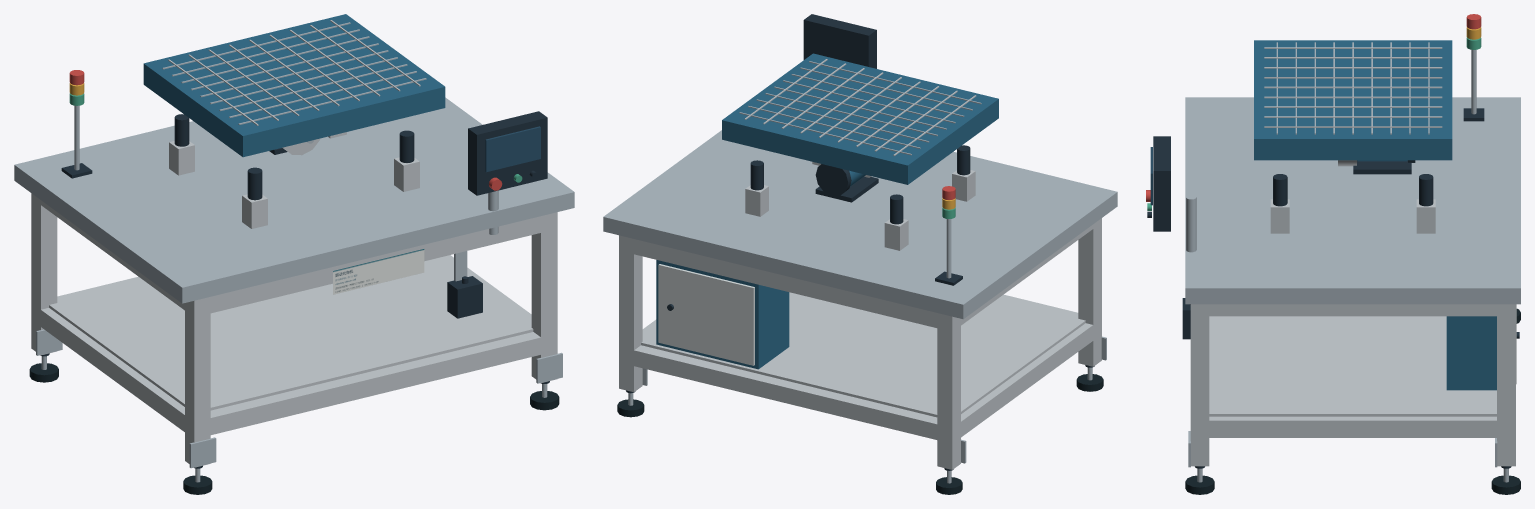
The model's file is vibratory-deburr-cell.glb.
The picture shows the model from 3 angles, left to right: view 1: azimuth 30°, elevation 25°; view 2: azimuth 150°, elevation 25°; view 3: azimuth 270°, elevation 25°; orthographic projection. The views are drawn at different scales.
Visible parts, largest first — view 1: ClosedMachineBed_28, LowerShelf_29, ScreenFrame_56, SlottedExtrusion_22, SlottedExtrusion_23, SlottedExtrusion_8, SlottedExtrusion_24, SlottedExtrusion_18, ConsoleBack_34, SlottedExtrusion_3, OriginalNameplate_42, Screen_35 (+7 smaller); view 2: ClosedMachineBed_28, LowerShelf_29, ScreenFrame_56, BackDoor_31, SlottedExtrusion_20, SlottedExtrusion_21, SlottedExtrusion_3, Cabinet_30, SlottedExtrusion_13, SlottedExtrusion_24, ConsoleBack_34, SlottedExtrusion_8 (+6 smaller); view 3: ClosedMachineBed_28, LowerShelf_29, ScreenFrame_56, SlottedExtrusion_26, Cabinet_30, SlottedExtrusion_27, SlottedExtrusion_18, SlottedExtrusion_13, ConsoleBack_34, MountFoot_80, ConsoleBracket_33, SlottedExtrusion_53 (+7 smaller).
Part boxes in pixels (x1,y1,x2,y2): ClosedMachineBed_28: (14, 97, 574, 303); LowerShelf_29: (49, 256, 533, 410); ScreenFrame_56: (143, 14, 445, 157); SlottedExtrusion_22: (203, 332, 540, 435); SlottedExtrusion_23: (202, 216, 540, 315); SlottedExtrusion_8: (185, 297, 210, 467); SlottedExtrusion_24: (36, 308, 184, 431); SlottedExtrusion_18: (531, 212, 557, 382); ConsoleBack_34: (468, 111, 547, 195); SlottedExtrusion_3: (31, 193, 57, 355); OriginalNameplate_42: (333, 249, 424, 294); Screen_35: (485, 126, 540, 172); ClosedMachineBed_28: (603, 130, 1117, 319); LowerShelf_29: (641, 292, 1085, 417); ScreenFrame_56: (722, 53, 998, 184); BackDoor_31: (658, 264, 754, 365); SlottedExtrusion_20: (626, 345, 944, 441); SlottedExtrusion_21: (626, 237, 944, 329); SlottedExtrusion_3: (937, 313, 960, 469); Cabinet_30: (656, 260, 789, 369); SlottedExtrusion_13: (619, 235, 642, 392); SlottedExtrusion_24: (956, 322, 1097, 440); ConsoleBack_34: (803, 14, 876, 68); SlottedExtrusion_8: (1078, 218, 1101, 366); ClosedMachineBed_28: (1185, 97, 1520, 304); LowerShelf_29: (1209, 316, 1496, 416); ScreenFrame_56: (1254, 40, 1452, 160); SlottedExtrusion_26: (1200, 416, 1505, 437); Cabinet_30: (1446, 316, 1496, 390); SlottedExtrusion_27: (1202, 304, 1505, 316); SlottedExtrusion_18: (1190, 304, 1209, 466); SlottedExtrusion_13: (1497, 304, 1515, 466); ConsoleBack_34: (1153, 136, 1170, 231); MountFoot_80: (1353, 160, 1411, 174); ConsoleBracket_33: (1186, 195, 1196, 252); SlottedExtrusion_53: (1416, 199, 1435, 233).
Bounding box in the file's own units: 1.55 × 1.2 × 1.29.
Materials: 11 (1 with a texture image).
